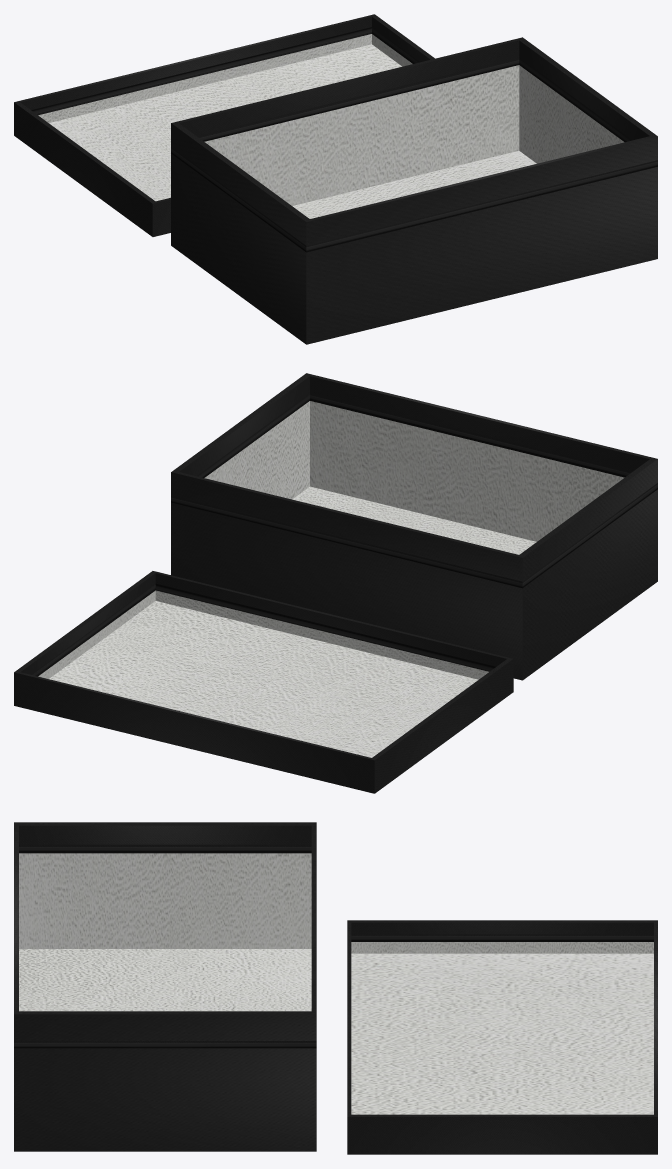
The model's file is mukavva_taslama01.glb.
3 views of the same model, one above another, from view 1: azimuth 30°, elevation 25°; view 2: azimuth 150°, elevation 25°; view 3: azimuth 270°, elevation 25° (orthographic). The views are drawn at different scales.
Visible parts, largest first — view 1: Cube, Cube.001; view 2: Cube, Cube.001; view 3: Cube, Cube.001.
Part boxes in pixels (x1,y1,x2,y2): Cube: [171, 37, 657, 344]; Cube.001: [14, 14, 434, 236]; Cube: [171, 373, 657, 680]; Cube.001: [14, 571, 513, 793]; Cube: [14, 822, 316, 1151]; Cube.001: [347, 920, 657, 1154].
Bounding box in the file's own units: 0.3078 × 0.1004 × 0.4255.
Materials: 1 (1 with a texture image).
